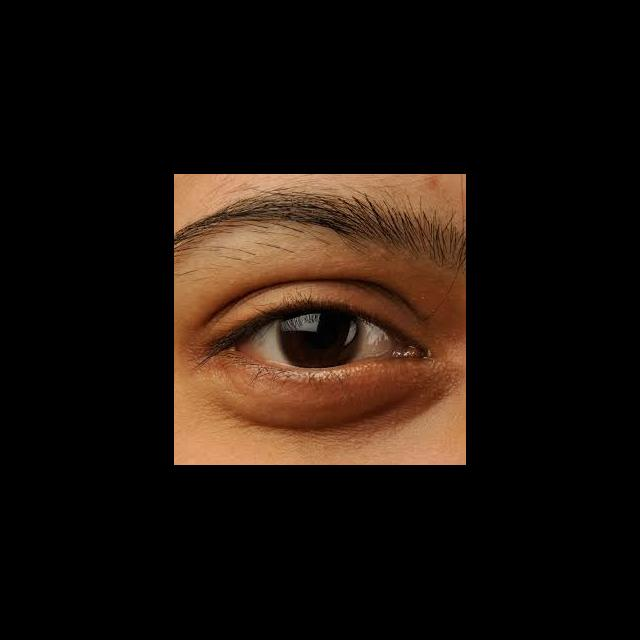eye: (239, 312, 395, 369)
iris: (278, 313, 360, 367)
